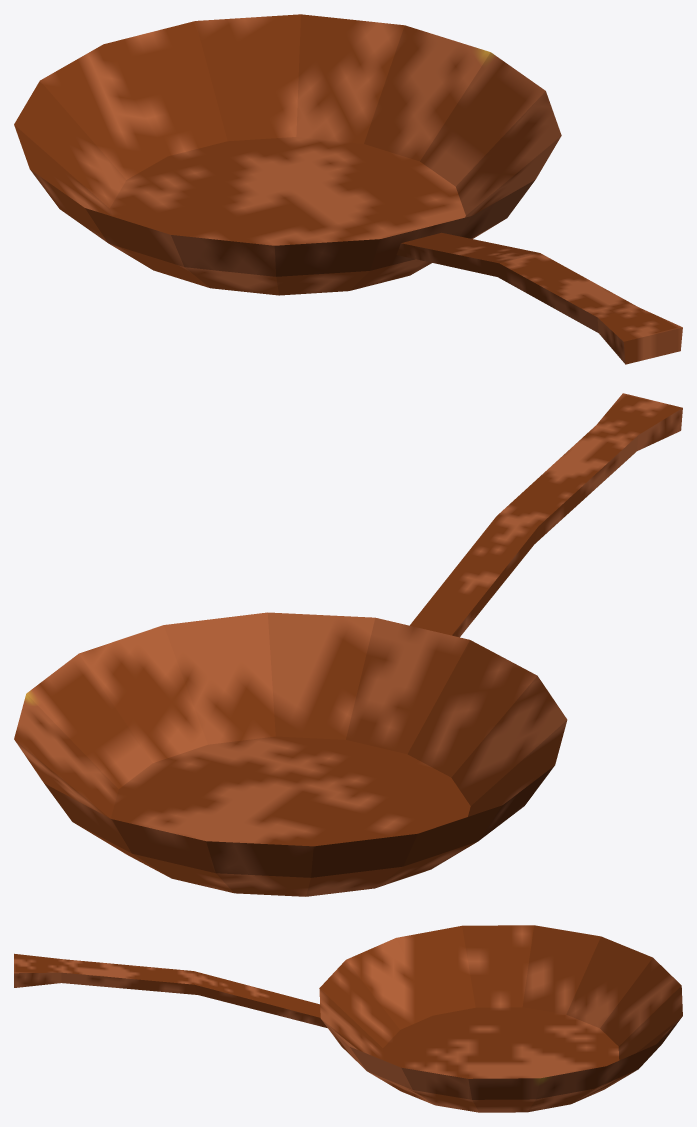
The model's file is SM_Dungeon_Pan.fbx.
3 views of the same model, one above another, from view 1: azimuth 30°, elevation 25°; view 2: azimuth 150°, elevation 25°; view 3: azimuth 270°, elevation 25° (orthographic). The views are drawn at different scales.
Parts seen in each view (by area): view 1: Cylinder; view 2: Cylinder; view 3: Cylinder.
Part boxes in pixels (x1,y1,x2,y2): Cylinder: (14,14,682,364); Cylinder: (14,393,682,896); Cylinder: (14,925,682,1112).
Size of the model in its own units: 41.17 by 12.45 by 75.77.
